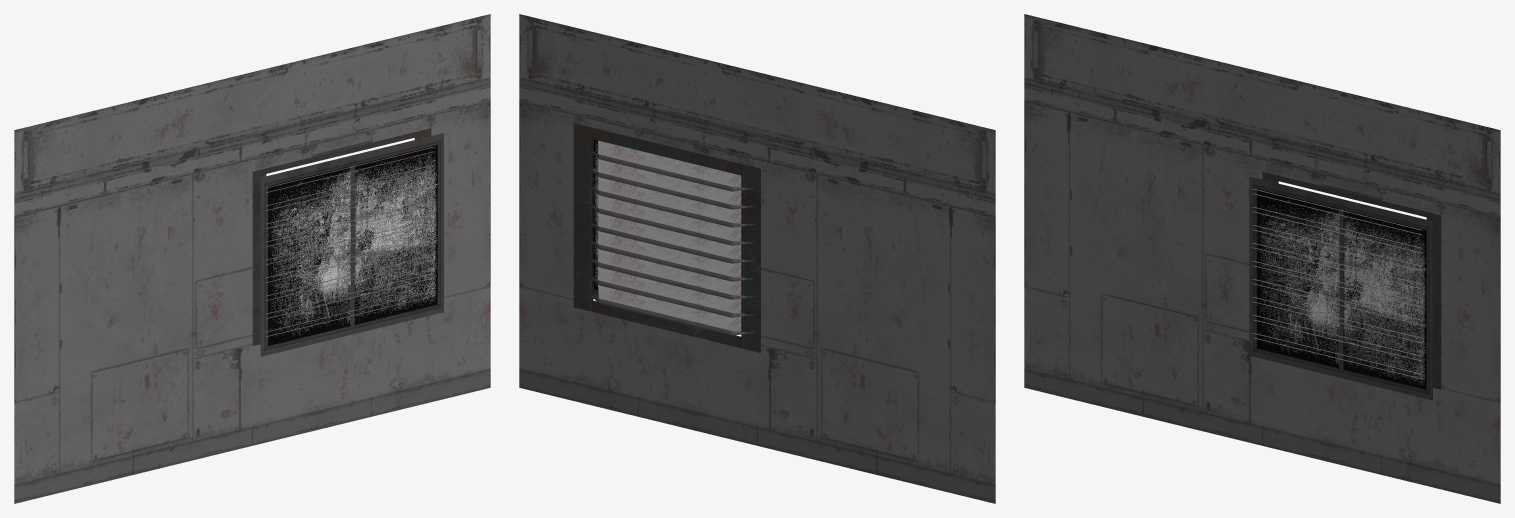
The model's file is ARC0910203.fbx.
3 views of the same model, side by side, from view 1: azimuth 30°, elevation 25°; view 2: azimuth 150°, elevation 25°; view 3: azimuth 330°, elevation 25° (orthographic).
Parts seen in each view (by area): view 1: smARC0910203; view 2: smARC0910203; view 3: smARC0910203.
Boxes of the visible parts, x1=… form: smARC0910203: x1=14, y1=14, x2=490, y2=503; smARC0910203: x1=519, y1=14, x2=995, y2=503; smARC0910203: x1=1024, y1=14, x2=1500, y2=503.
Size of the model in its own units: 400 by 300 by 25.24.
1 material, 1 textured.
